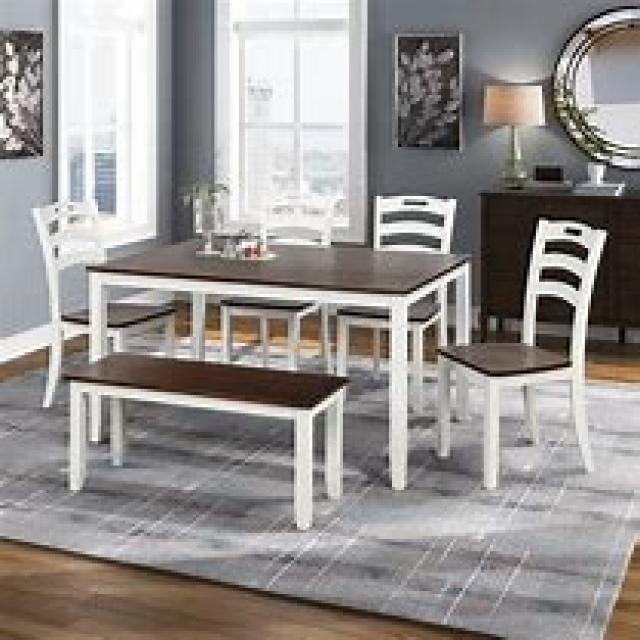chair: (432, 214, 606, 490), (31, 196, 178, 441), (334, 193, 459, 413), (217, 193, 340, 370)
table: (82, 230, 472, 490)
